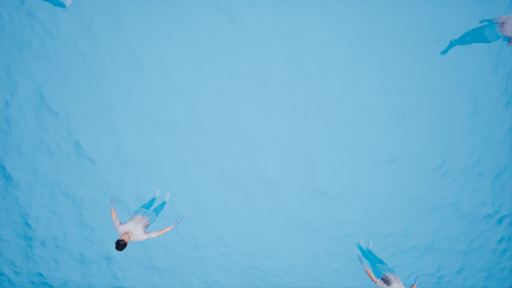person: (105, 188, 181, 248)
